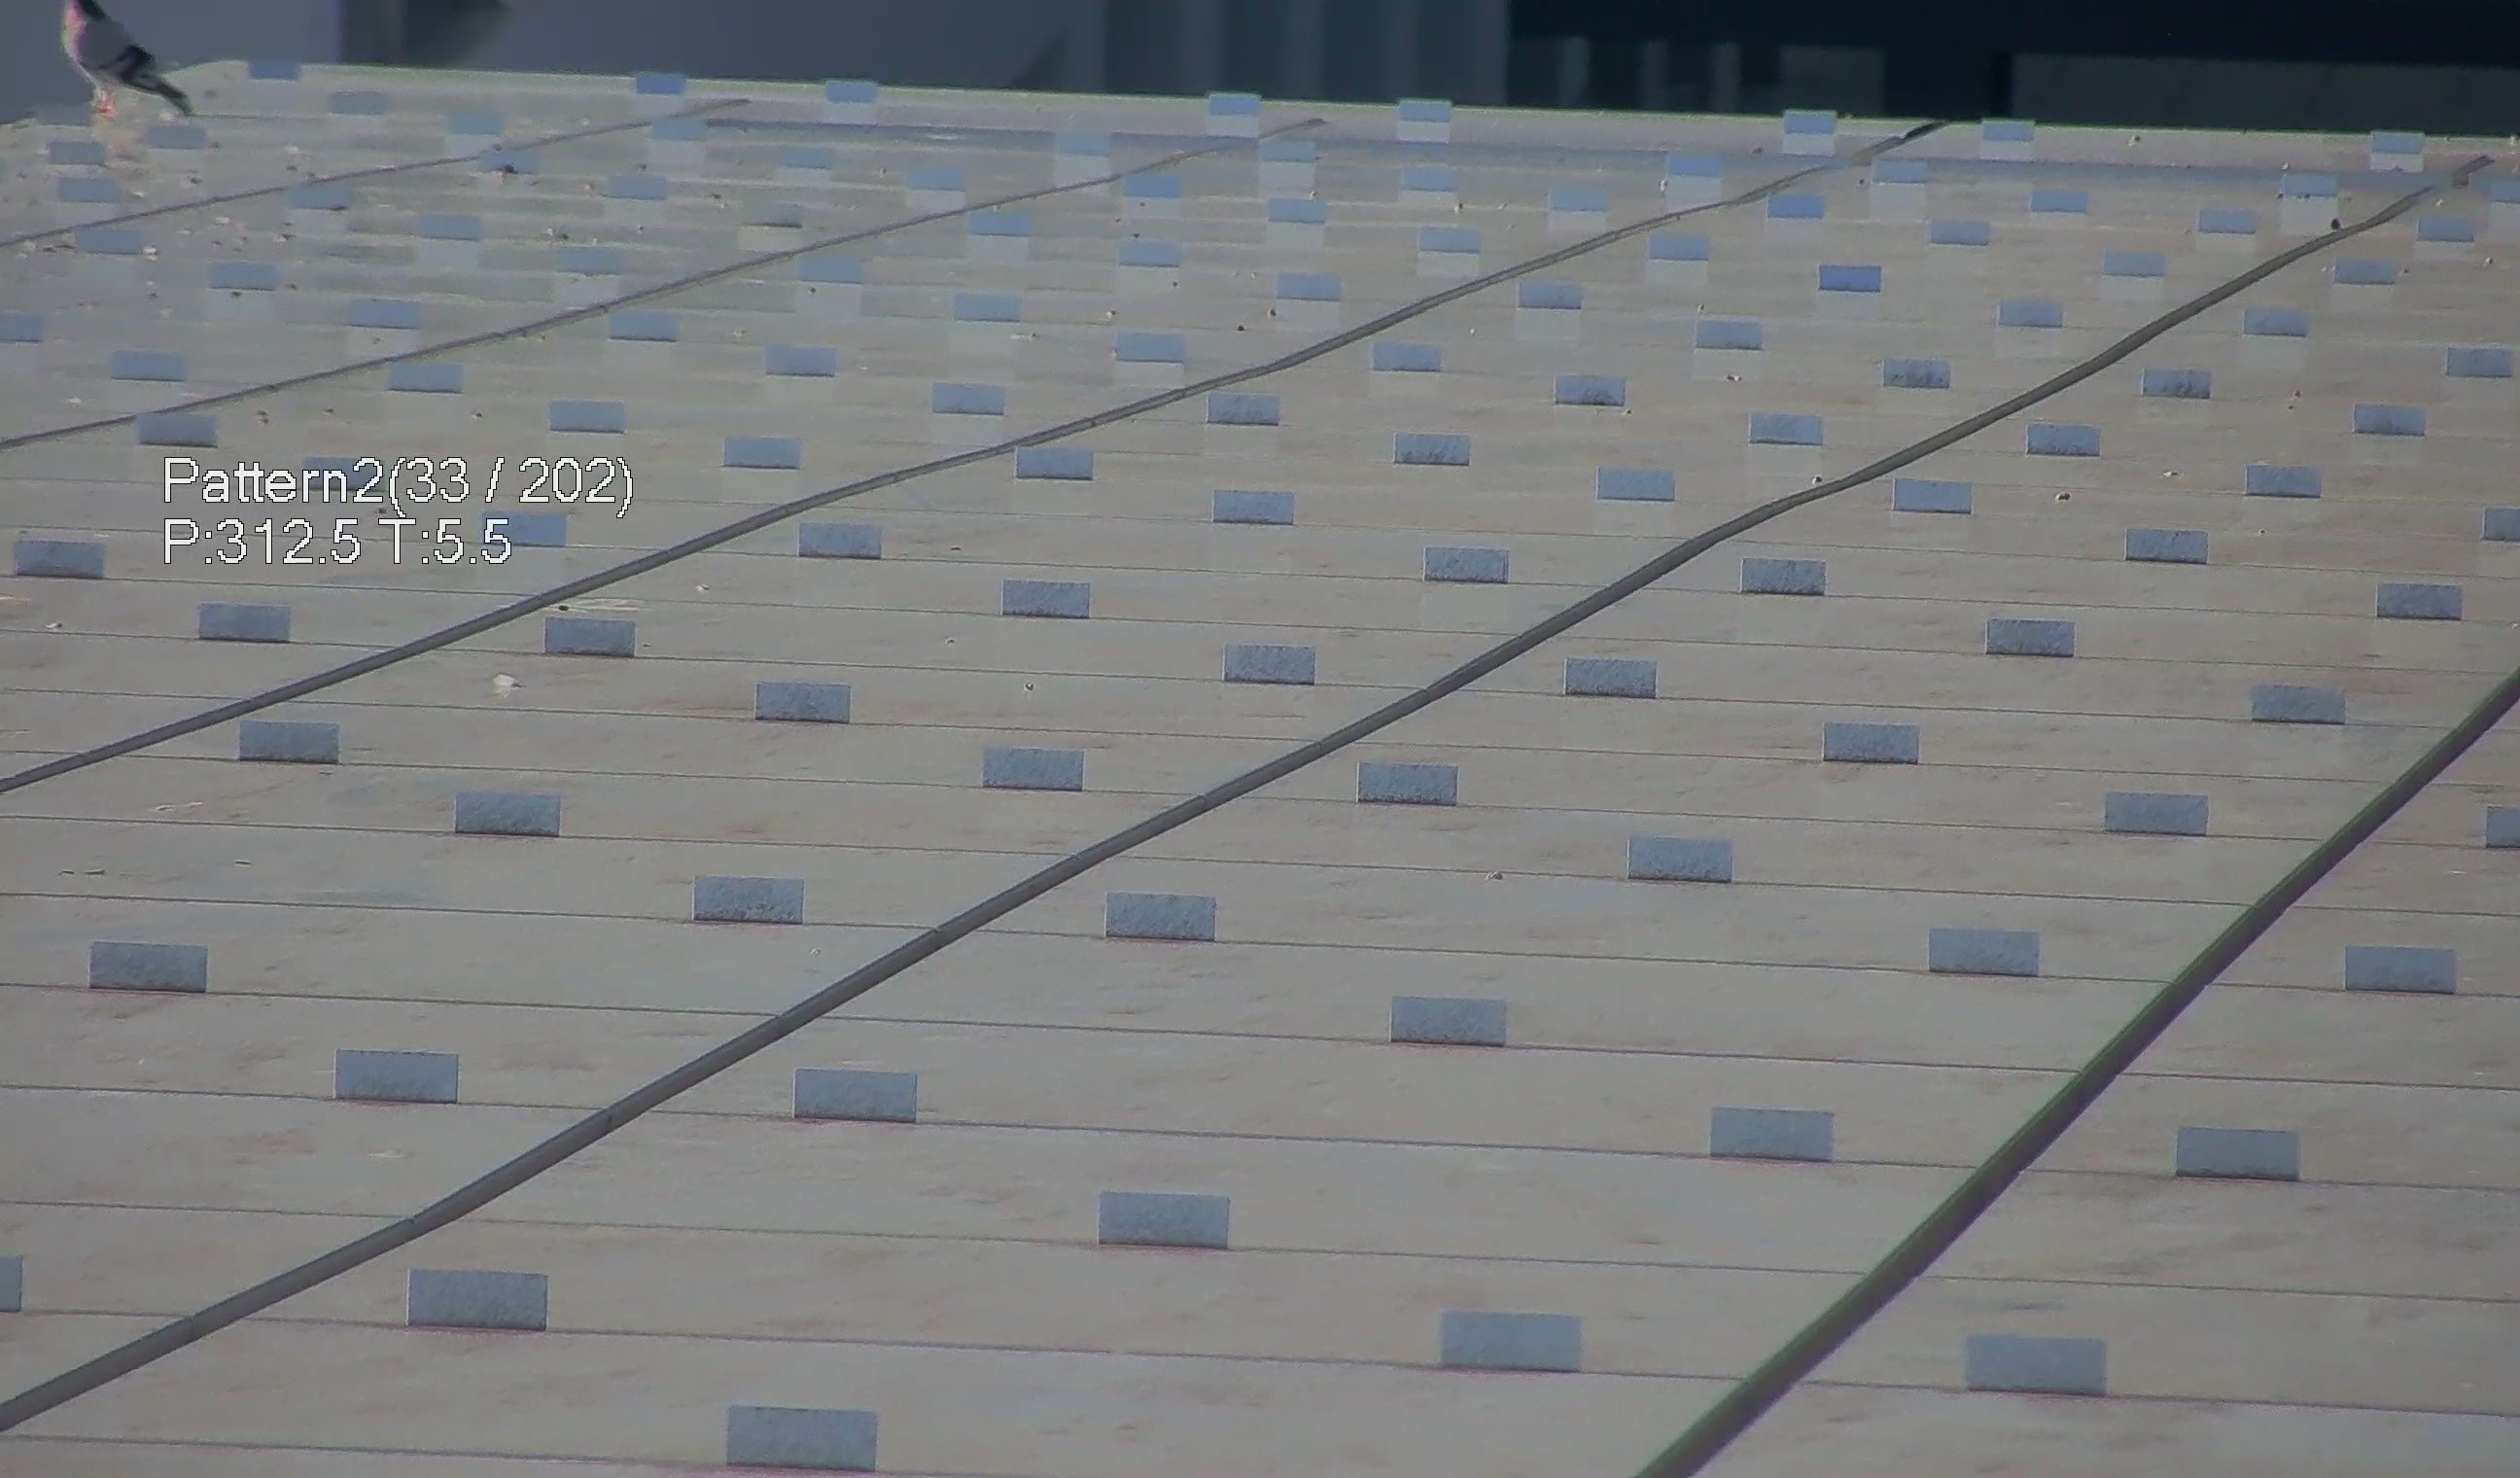Pigeon: (69, 0, 208, 134)
